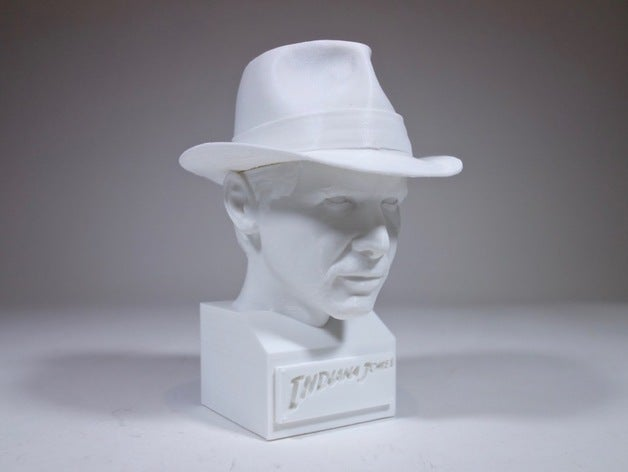Good: (161, 24, 474, 455)
